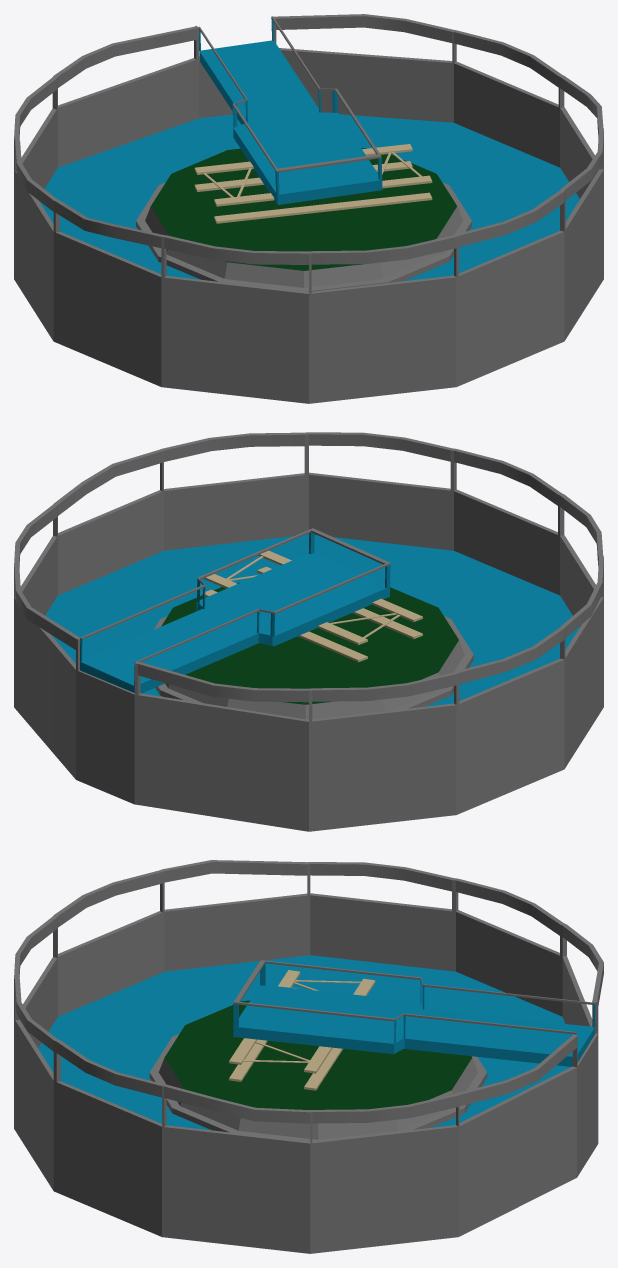
The model's file is chlorine_treatment.fbx.
The picture shows the model from 3 angles, top to bottom: view 1: azimuth 30°, elevation 25°; view 2: azimuth 150°, elevation 25°; view 3: azimuth 270°, elevation 25°; orthographic projection.
Parts seen in each view (by area): view 1: chlorine_treatment; view 2: chlorine_treatment; view 3: chlorine_treatment.
Boxes of the visible parts, x1,y1,x2,y2 form: chlorine_treatment: (14,14,603,403); chlorine_treatment: (14,432,603,831); chlorine_treatment: (14,860,603,1253).
Size of the model in its own units: 3516 by 988 by 3501.
